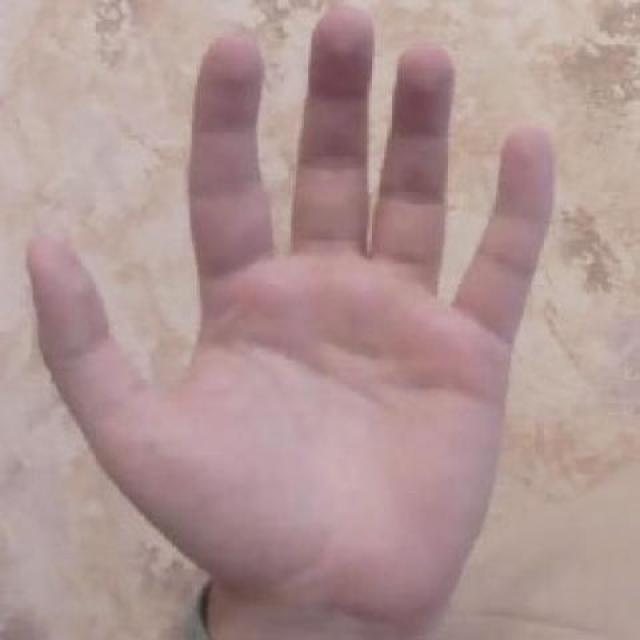Open Hand: (23, 2, 565, 640)
